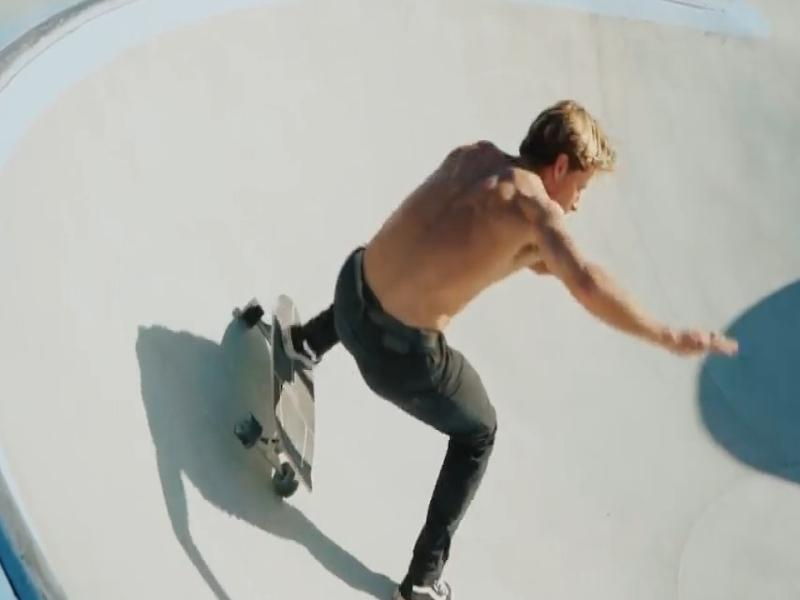person: (289, 100, 738, 599)
skate: (234, 296, 314, 497)
